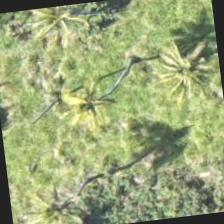Kelapa_Sawit: (39, 55, 139, 156), (134, 24, 223, 125), (12, 0, 109, 73), (7, 160, 106, 223)
